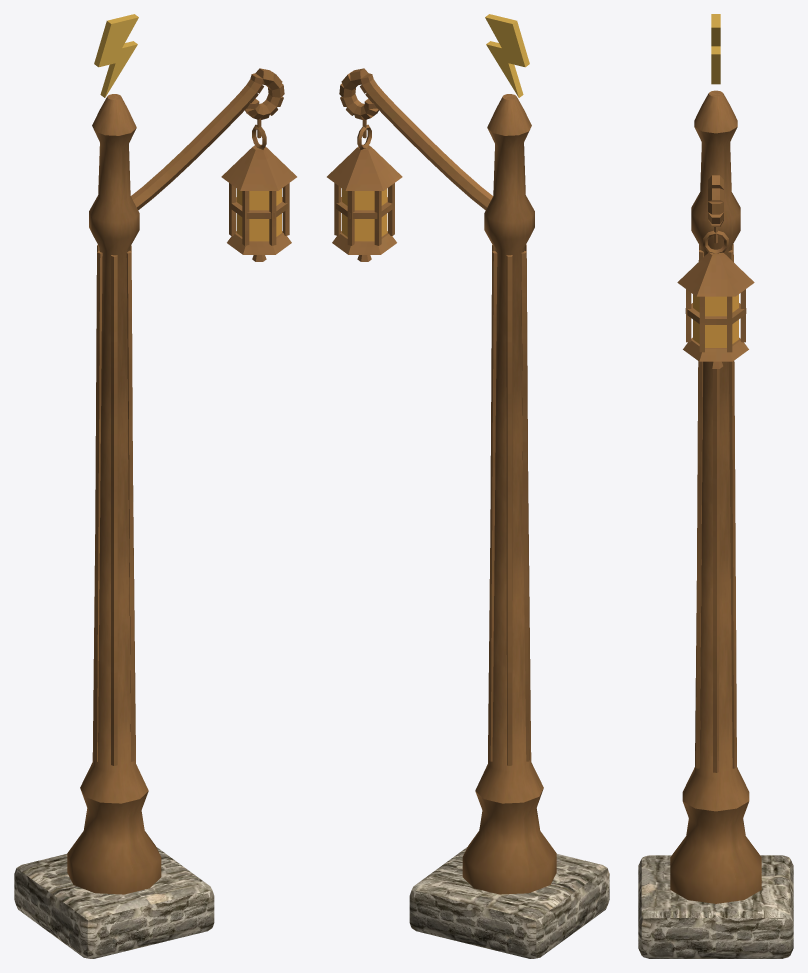
Rendered from decor_lantern_t1_bronze.glb.
The picture shows the model from 3 angles, left to right: view 1: azimuth 30°, elevation 25°; view 2: azimuth 150°, elevation 25°; view 3: azimuth 270°, elevation 25°; orthographic projection.
Visible parts, largest first — view 1: bronze, stone, gold, flame; view 2: bronze, stone, gold, flame; view 3: bronze, stone, flame, gold.
Part boxes in pixels (x1,y1,x2,y2): bronze: (67,68,296,894); stone: (14,847,214,958); gold: (94,14,138,97); flame: (236,188,281,241); bronze: (327,68,556,894); stone: (409,847,609,958); gold: (485,14,529,97); flame: (342,188,387,241); bronze: (670,90,761,903); stone: (638,855,793,958); flame: (693,294,738,347); gold: (711,14,720,84).
Size of the model in its own units: 0.7609 by 2.73 by 0.42.
Materials: 4 (2 with a texture image).
